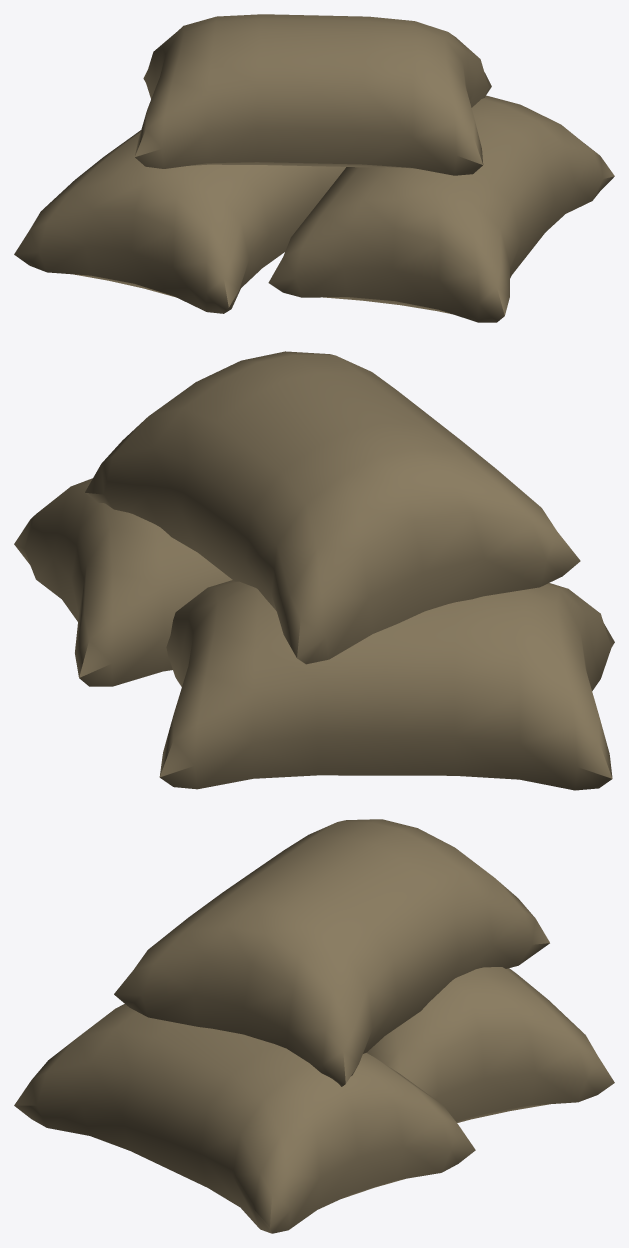
File: bags.glb
The picture shows the model from 3 angles, top to bottom: view 1: azimuth 30°, elevation 25°; view 2: azimuth 150°, elevation 25°; view 3: azimuth 270°, elevation 25°; orthographic projection. The views are drawn at different scales.
Visible parts, largest first — view 1: Bags; view 2: Bags; view 3: Bags.
Boxes of the visible parts, x1=… form: Bags: x1=14, y1=14, x2=614, y2=322; Bags: x1=14, y1=351, x2=614, y2=790; Bags: x1=14, y1=819, x2=614, y2=1233.
Size of the model in its own units: 0.2697 by 0.1071 by 0.2392.
